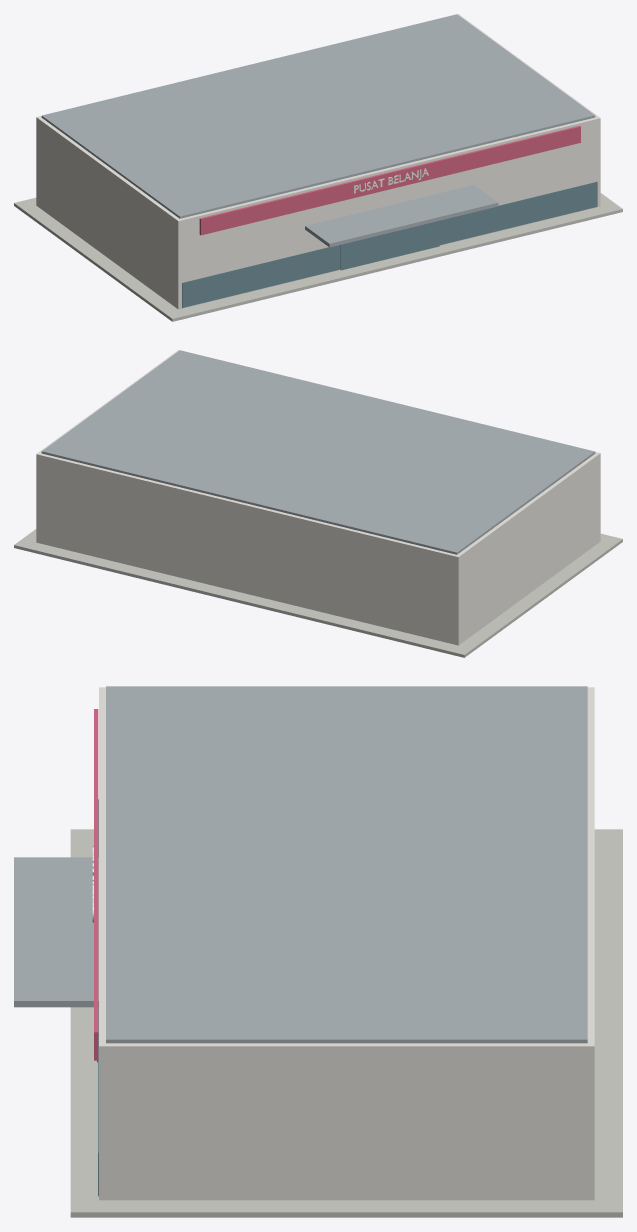
Rendered from mall.glb.
The picture shows the model from 3 angles, top to bottom: view 1: azimuth 30°, elevation 25°; view 2: azimuth 150°, elevation 25°; view 3: azimuth 270°, elevation 25°; orthographic projection. The views are drawn at different scales.
Parts seen in each view (by area): view 1: building, roof; view 2: building, roof; view 3: roof, building.
Boxes of the visible parts, <box> form: building: <box>14,14,622,321</box>; roof: <box>41,14,595,218</box>; building: <box>14,350,622,657</box>; roof: <box>41,350,595,554</box>; roof: <box>106,686,587,1043</box>; building: <box>14,687,622,1217</box>.
Bounding box in the file's own units: 64 × 12.7 × 43.
